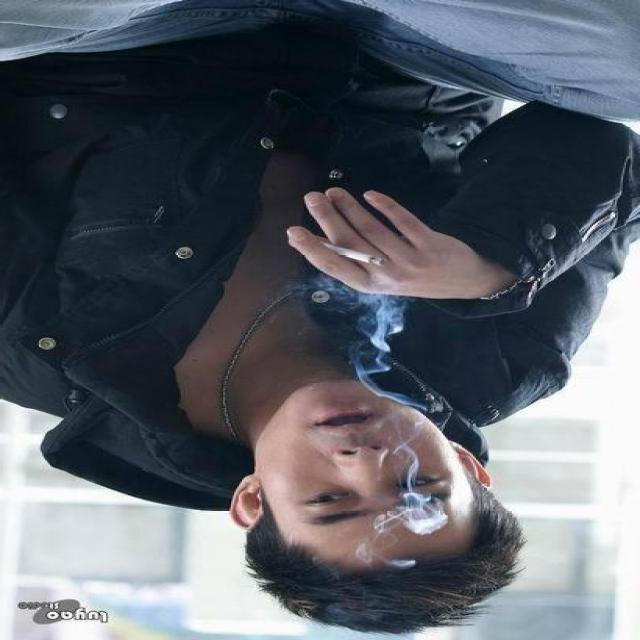cigarette: (284, 234, 395, 274)
